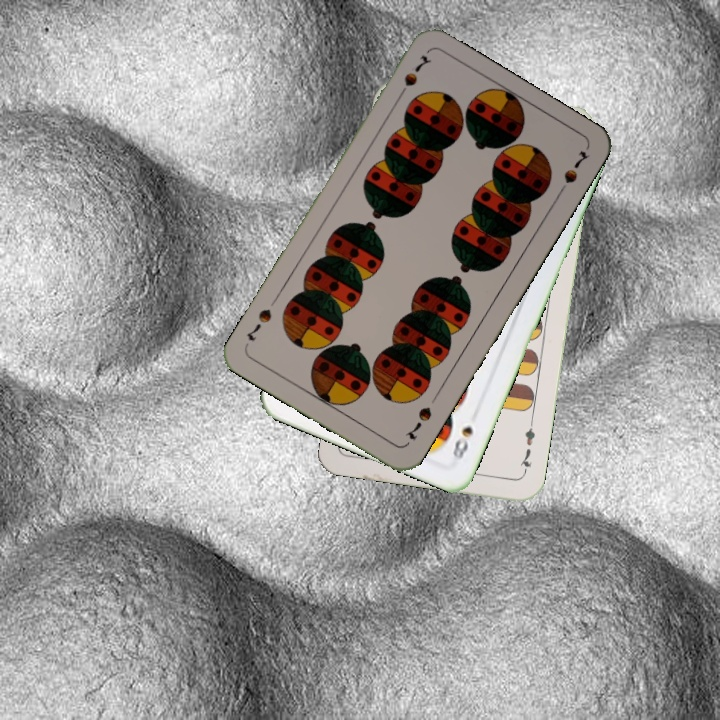E7: (515, 418, 538, 477)
S7: (393, 51, 435, 102), (402, 402, 434, 444)
S8: (448, 422, 476, 467)
